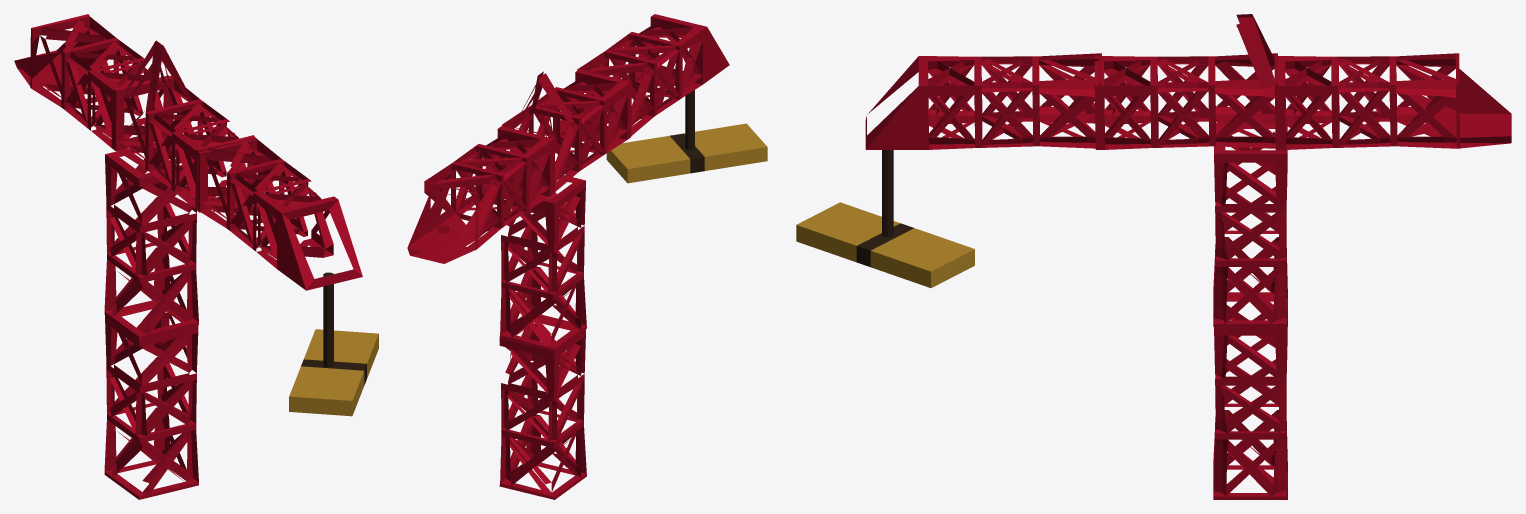
The model's file is construction.gltf.
3 renders of one model, left to right at view 1: azimuth 30°, elevation 25°; view 2: azimuth 150°, elevation 25°; view 3: azimuth 270°, elevation 25°, orthographic. The views are drawn at different scales.
Visible parts, largest first — view 1: Construction; view 2: Construction; view 3: Construction.
Boxes of the visible parts, x1=… form: Construction: x1=14, y1=14, x2=378, y2=499; Construction: x1=407, y1=14, x2=767, y2=499; Construction: x1=796, y1=14, x2=1511, y2=499.
Bounding box in the file's own units: 0.3914 × 1.24 × 1.7.
1 material, 1 textured.
